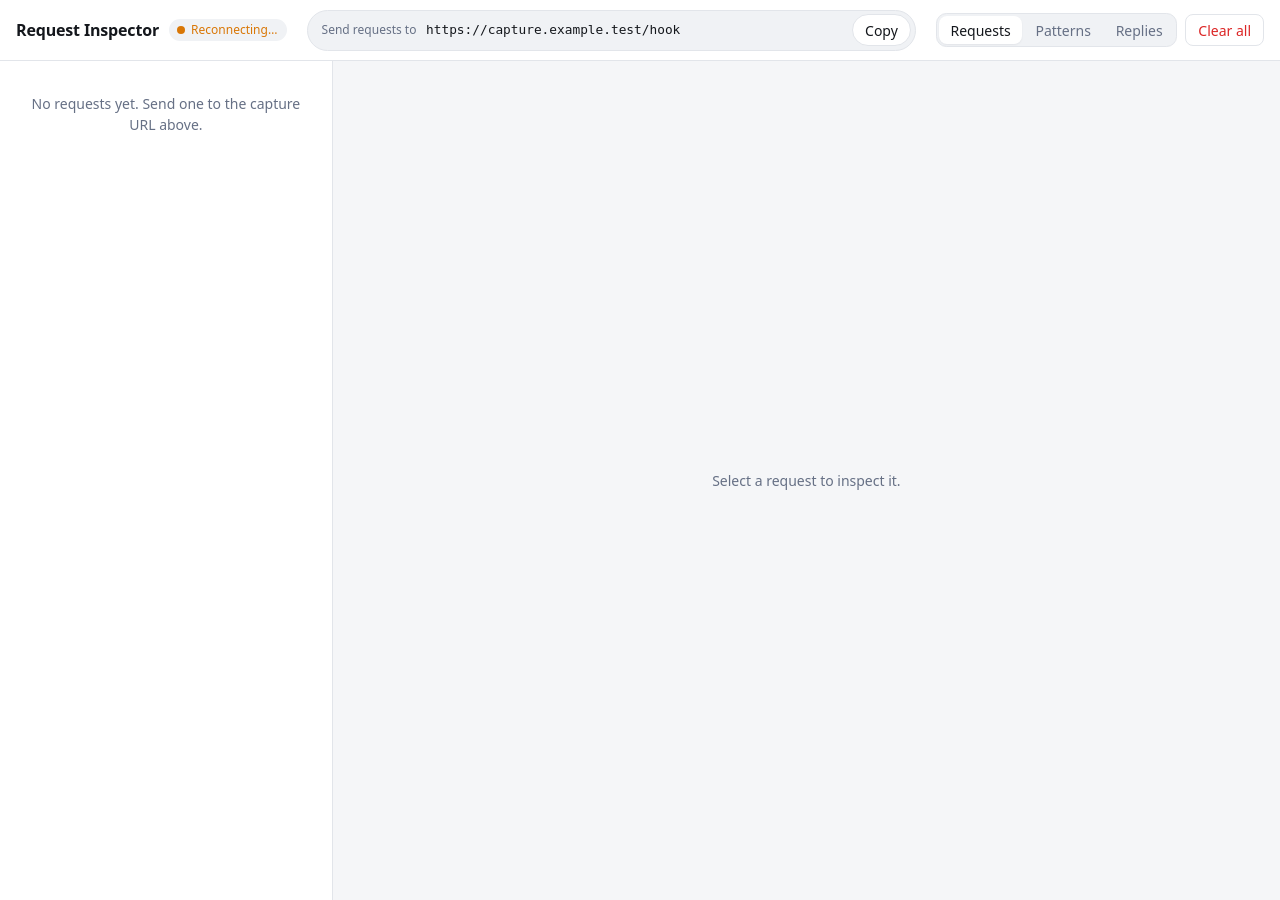
patterns view › explains when there are no patterns yet
What coordinates should you click on to do the following:
click the tab "Patterns"
I would click on:
 (1063, 30)
Its box is [1024,16,1102,44].
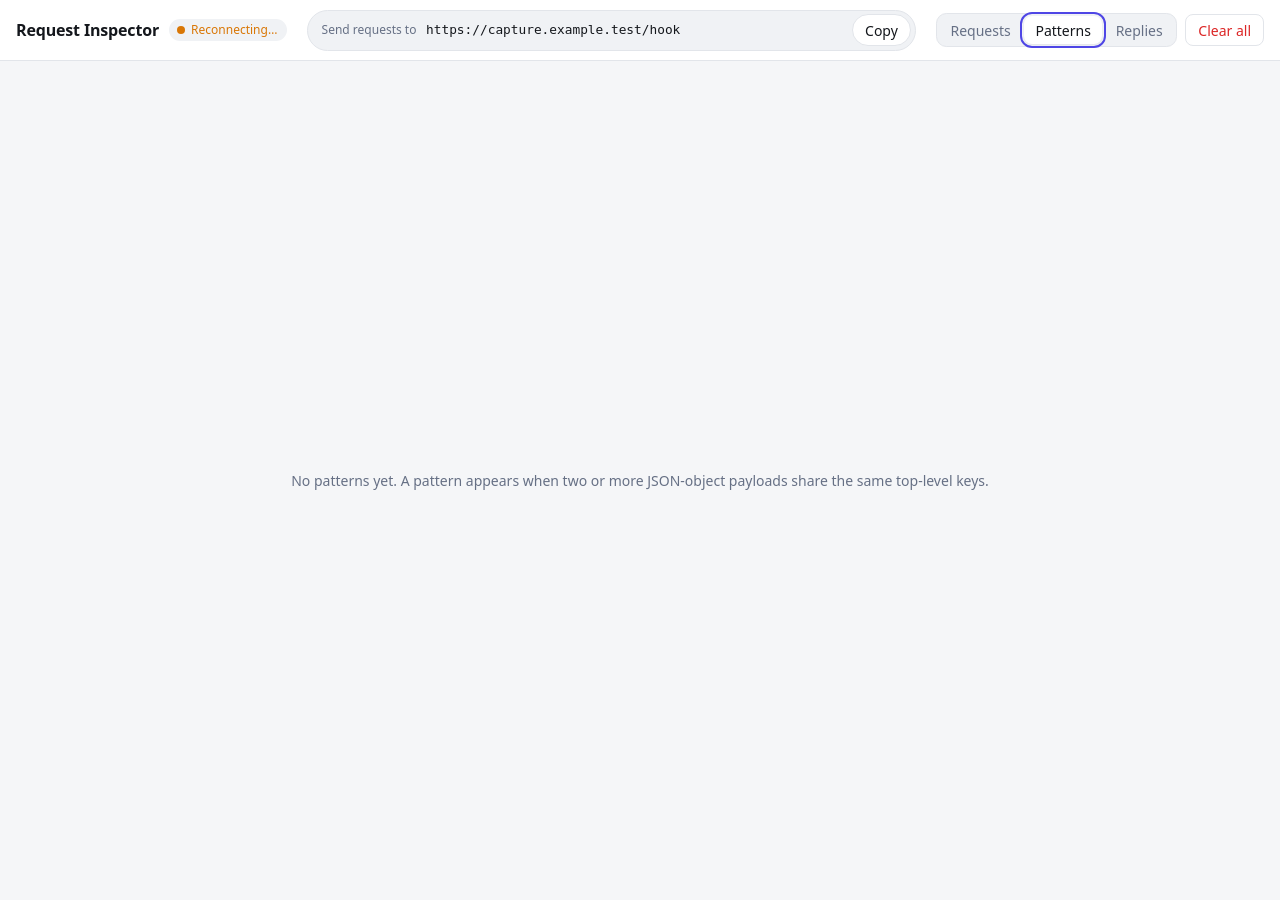
Now the text "No patterns yet" is shown, box [291,471,989,490]
